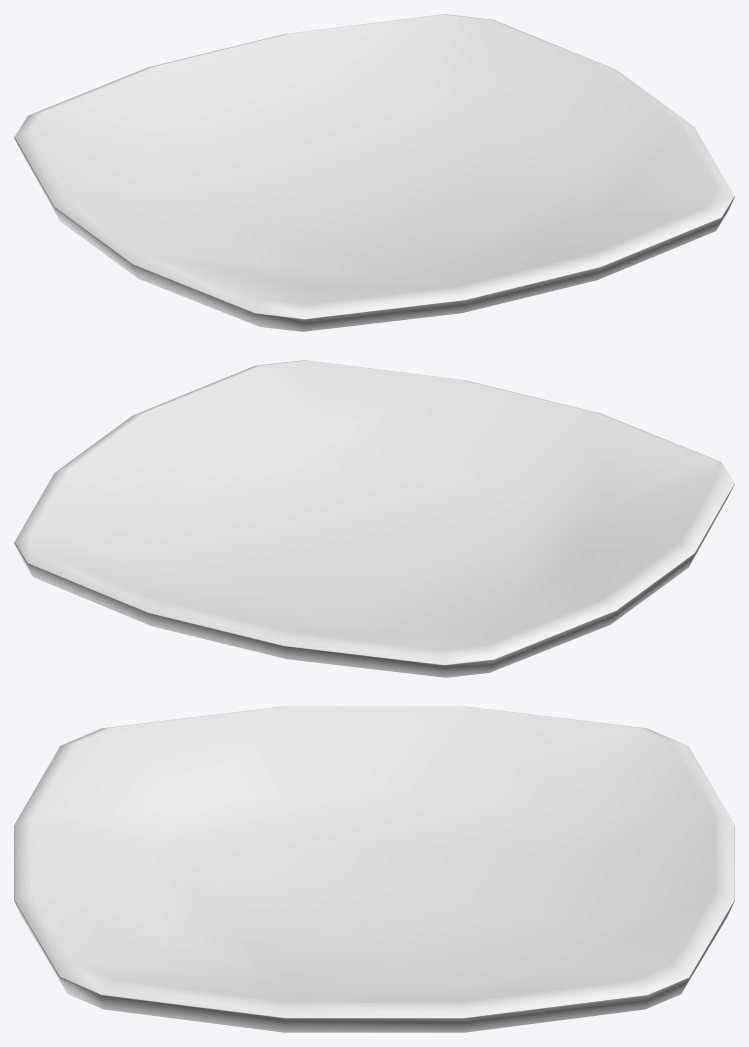
File: prop_061.fbx
3 renders of one model, top to bottom at view 1: azimuth 30°, elevation 25°; view 2: azimuth 150°, elevation 25°; view 3: azimuth 270°, elevation 25°, orthographic. The views are drawn at different scales.
Parts seen in each view (by area): view 1: prop_061; view 2: prop_061; view 3: prop_061.
Part boxes in pixels (bbox=[...]): prop_061: bbox=[14, 14, 734, 331]; prop_061: bbox=[14, 360, 734, 677]; prop_061: bbox=[14, 706, 734, 1032].
Size of the model in its own units: 40.31 by 39.4 by 3.59.
